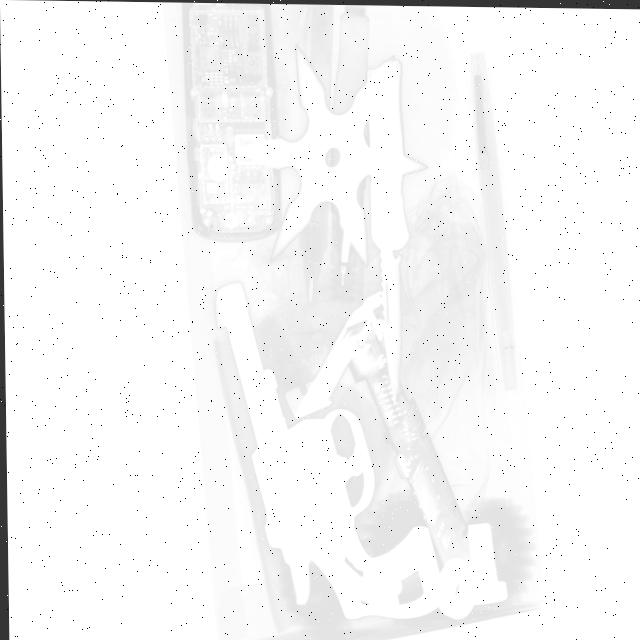knife: (371, 70, 415, 391)
pistol: (213, 277, 441, 622)
